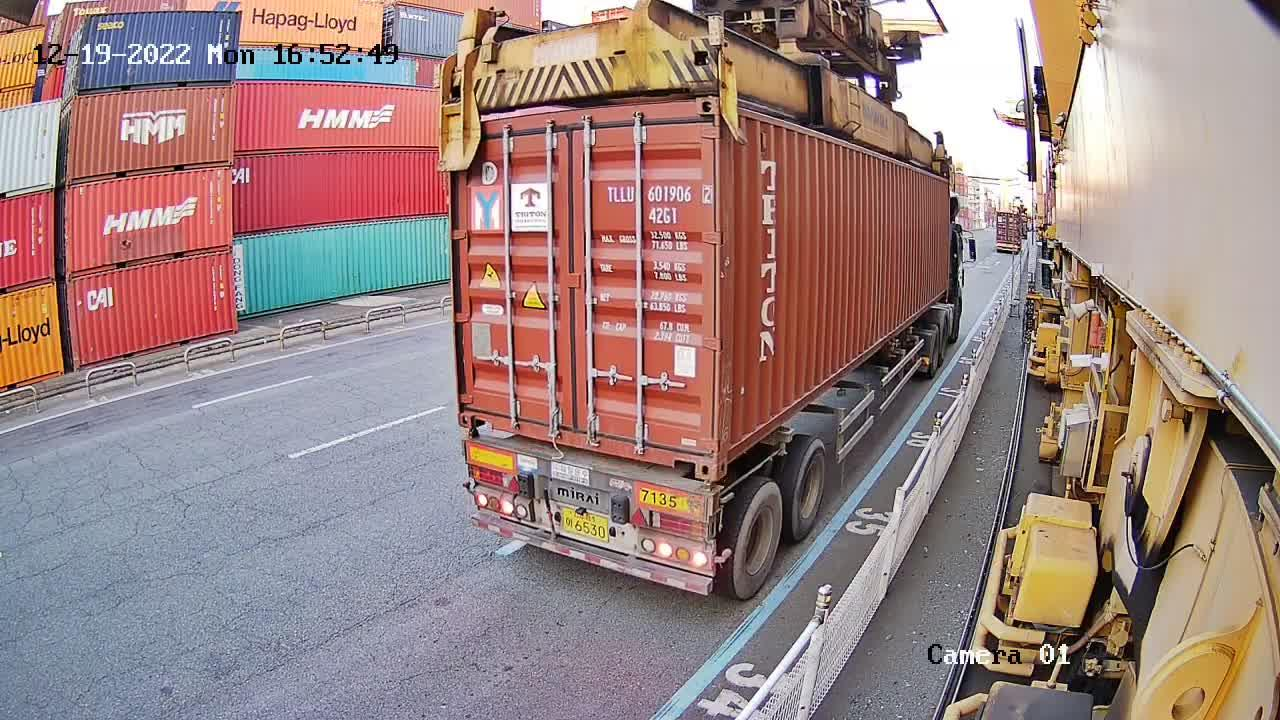Chassis: (466, 435, 716, 514)
Cone: (697, 482, 720, 513), (463, 429, 479, 445)
Hole_L: (715, 416, 744, 482), (457, 388, 498, 430)
Hole_R: (668, 427, 714, 481)
Tire: (731, 484, 783, 594), (792, 436, 829, 540)
